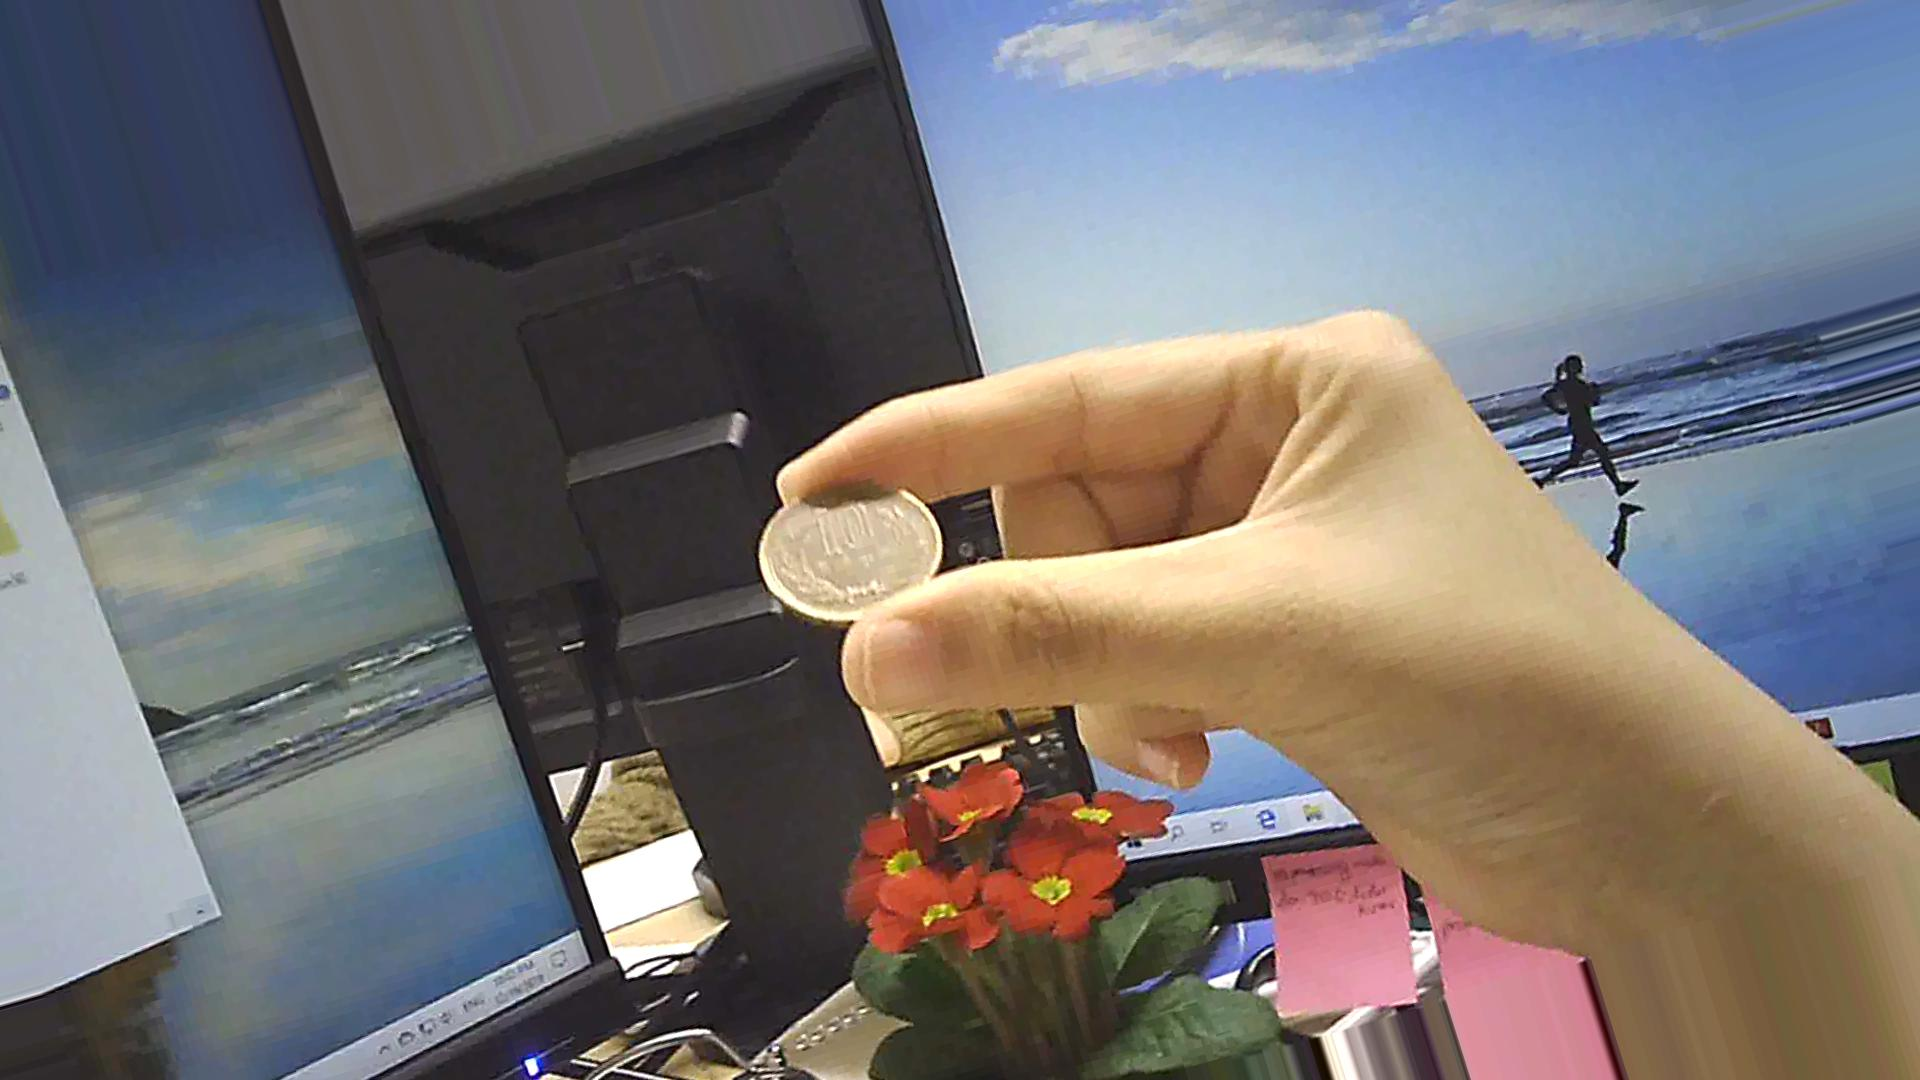10 Yen: (746, 469, 956, 618)
